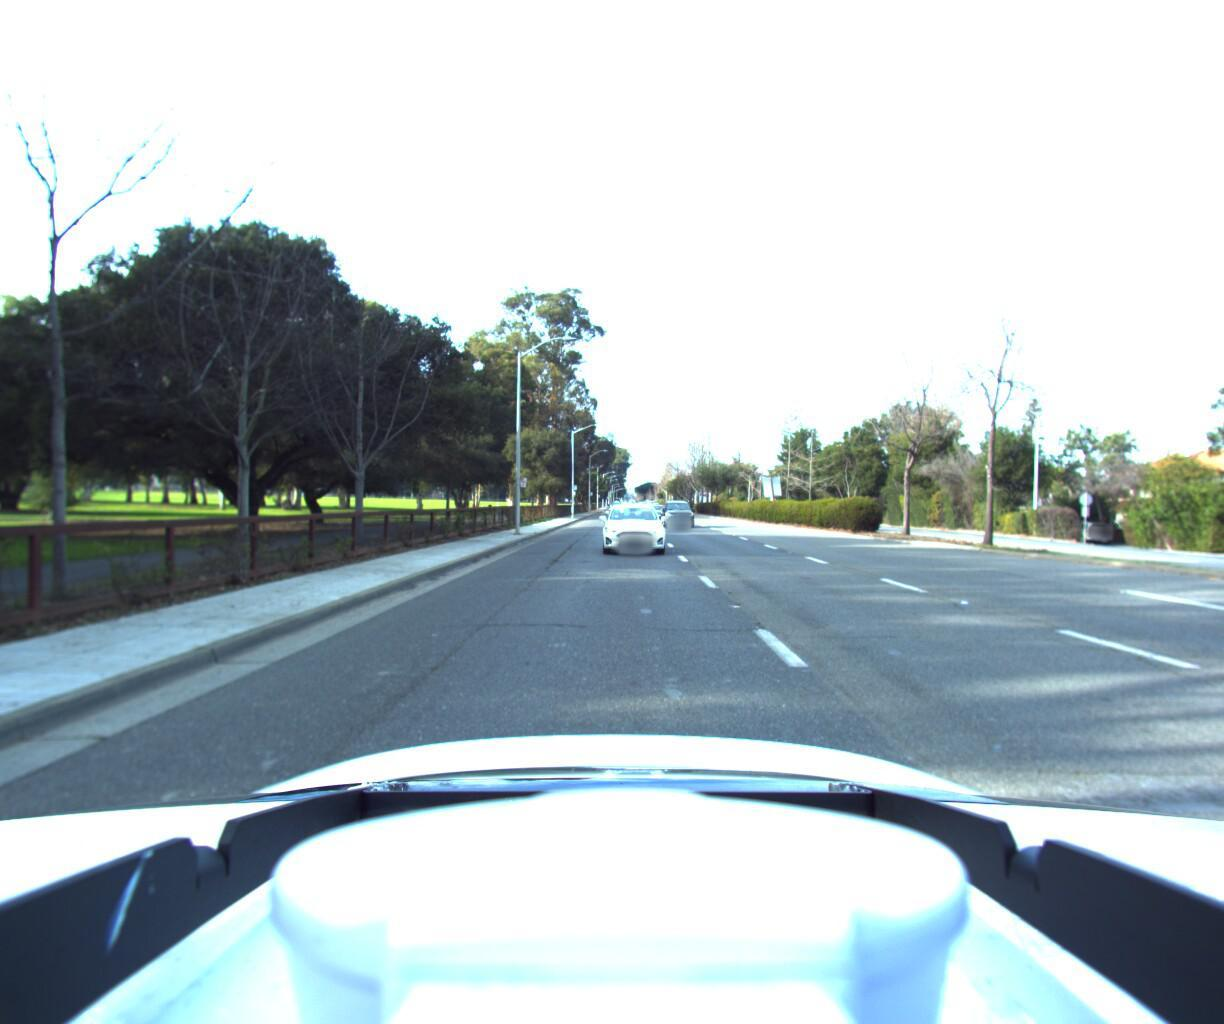car: (599, 499, 667, 555), (1061, 521, 1115, 545), (642, 502, 664, 520)
